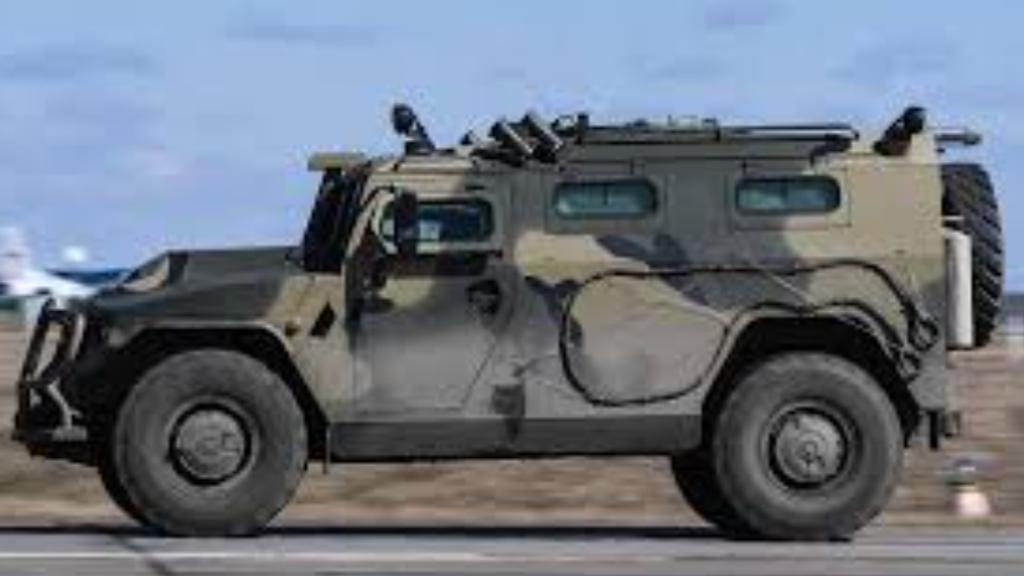CAR: (20, 101, 1003, 549)
